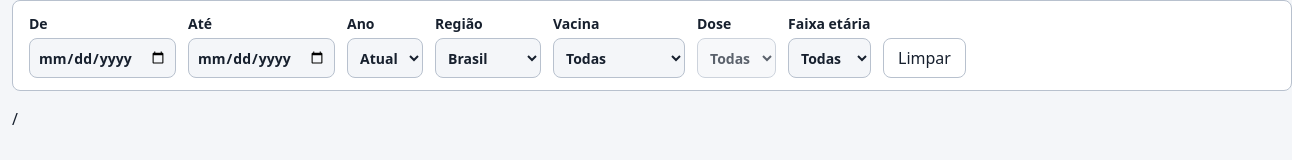
Test: FilterBar › offers regions from the caller scope
This screenshot has width=1292, height=160.
Step 1. Select "Bahia" in the dropdown labelled "Região" → (488, 58), box [435,38,541,78]
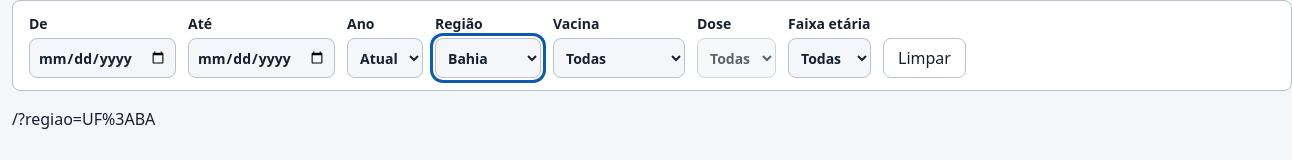
Expected: the text with test id "loc" shows "regiao=UF%3ABA", [12,108,155,130]
